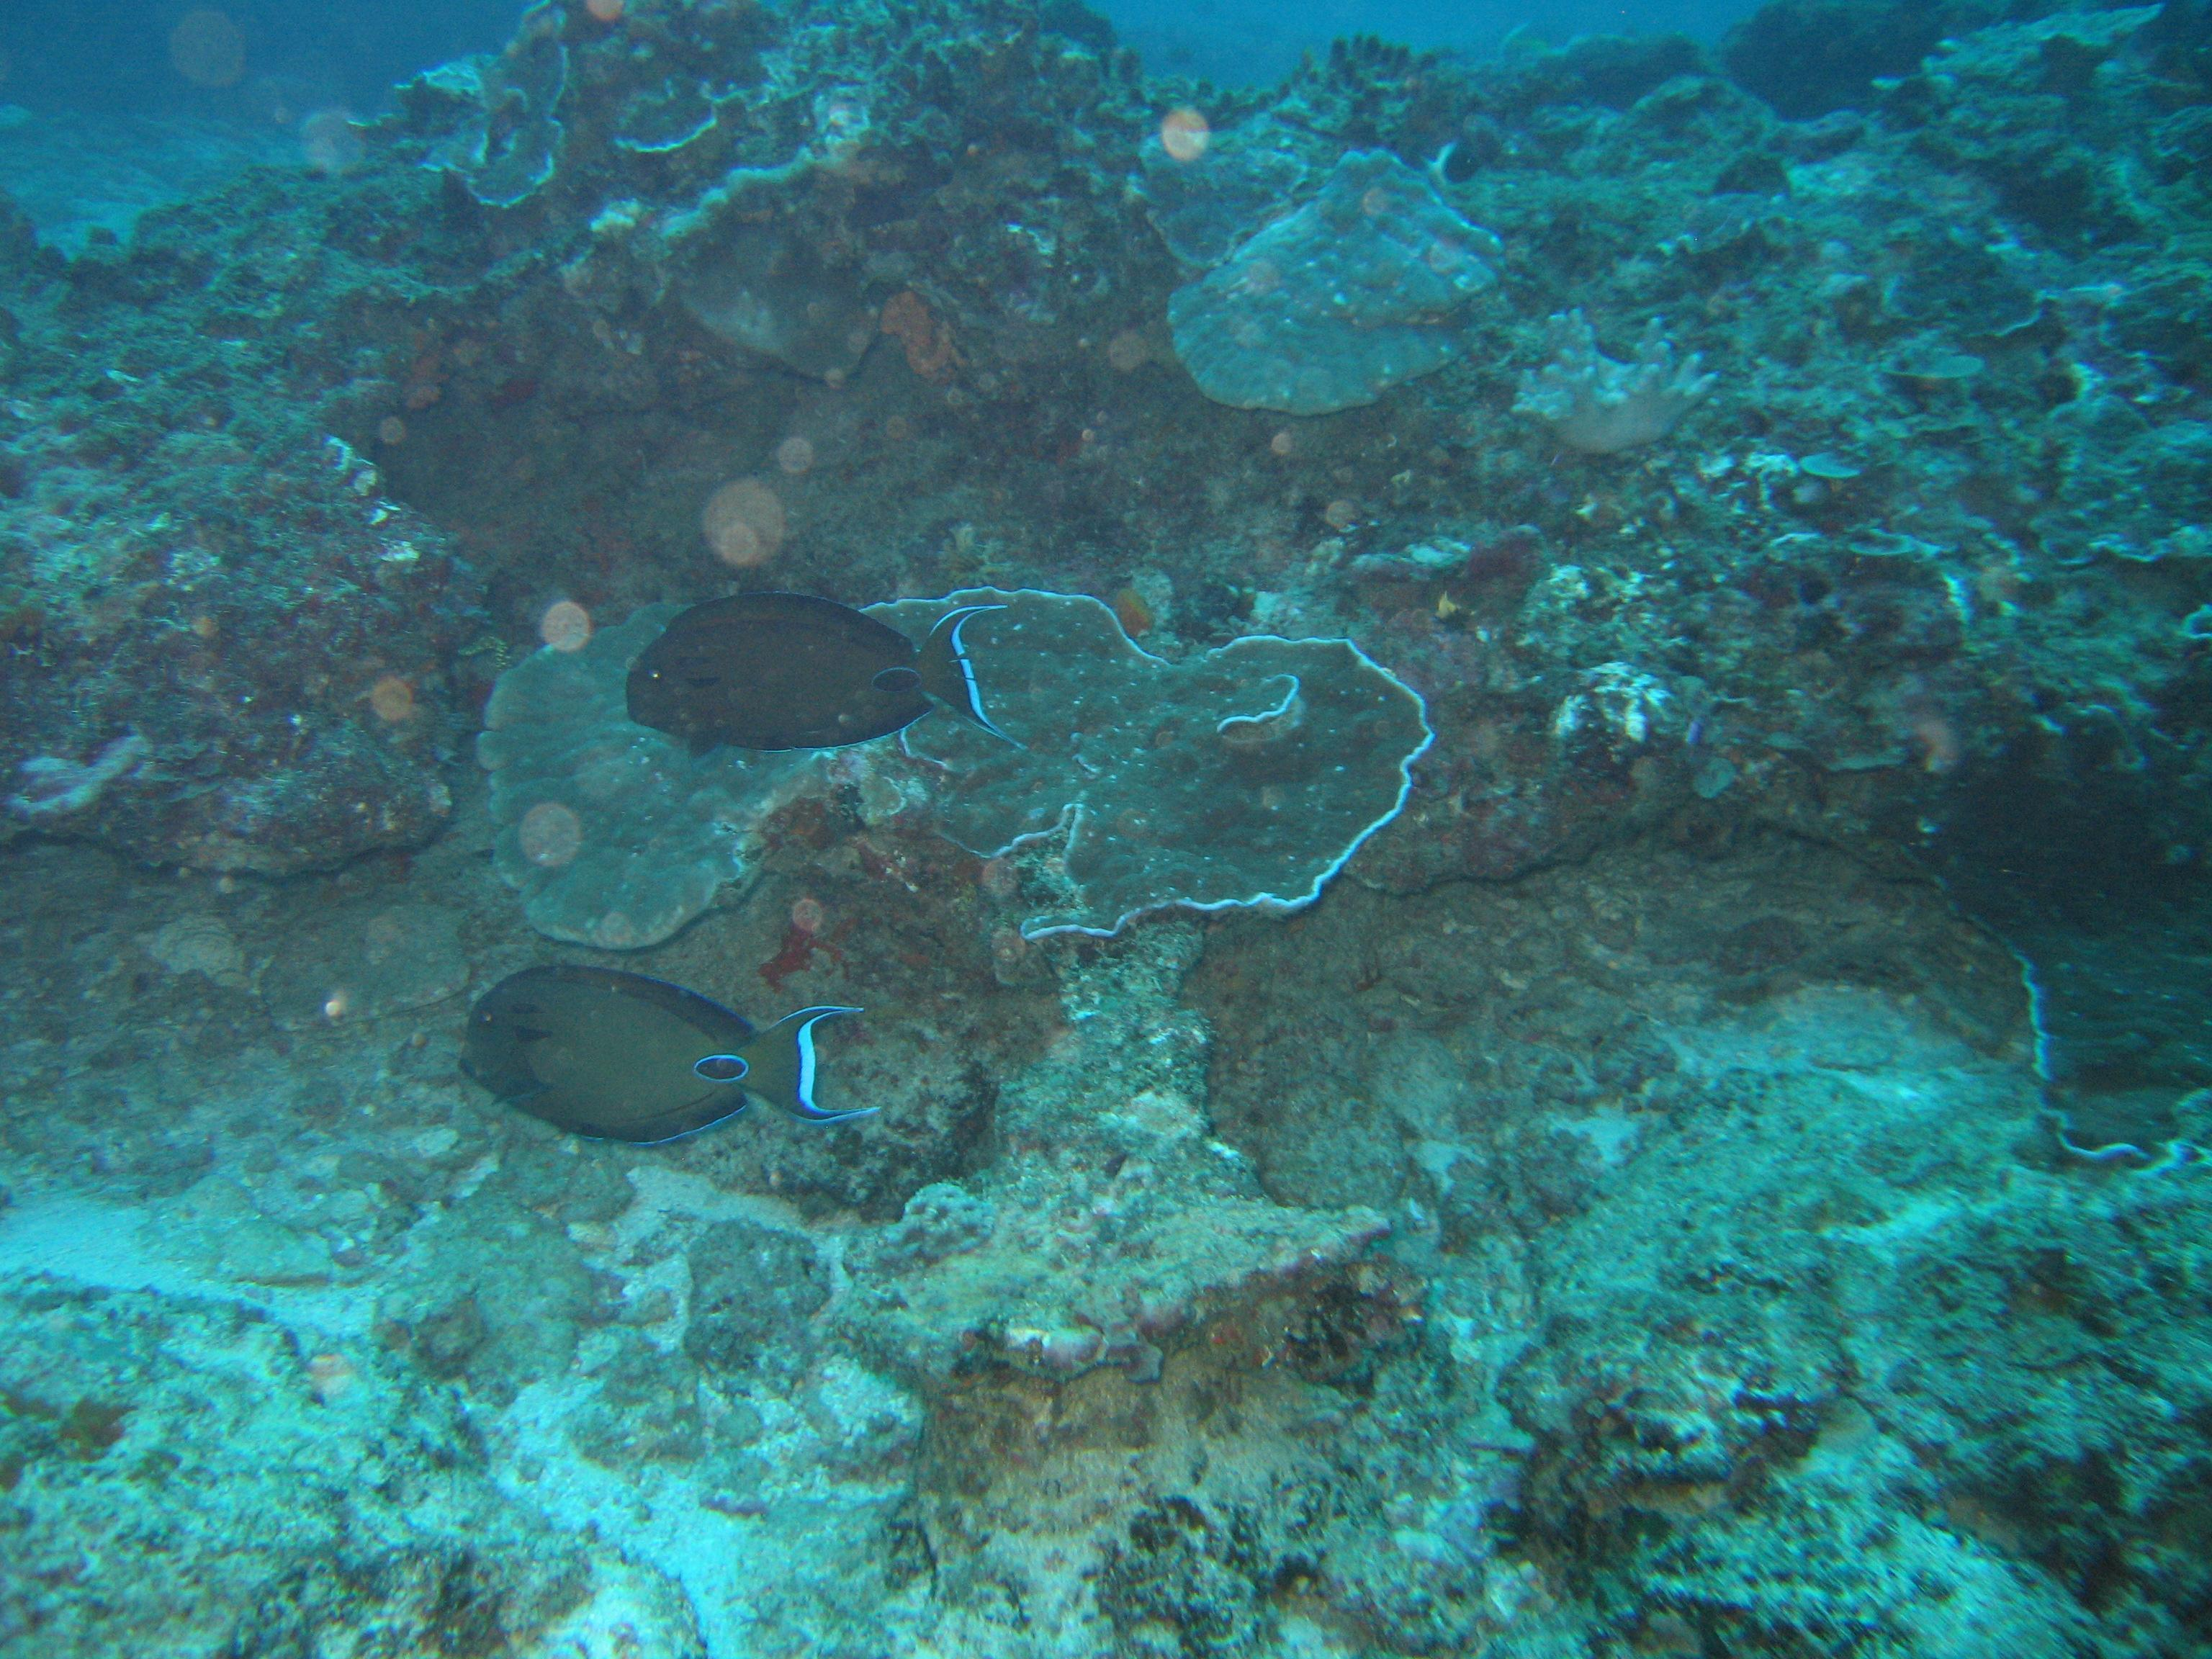Fish: (418, 941, 876, 1175), (610, 586, 1024, 763)
